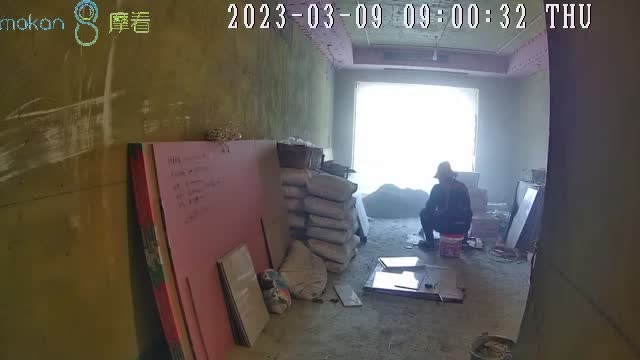people: (419, 161, 473, 247)
window: (355, 83, 481, 189)
